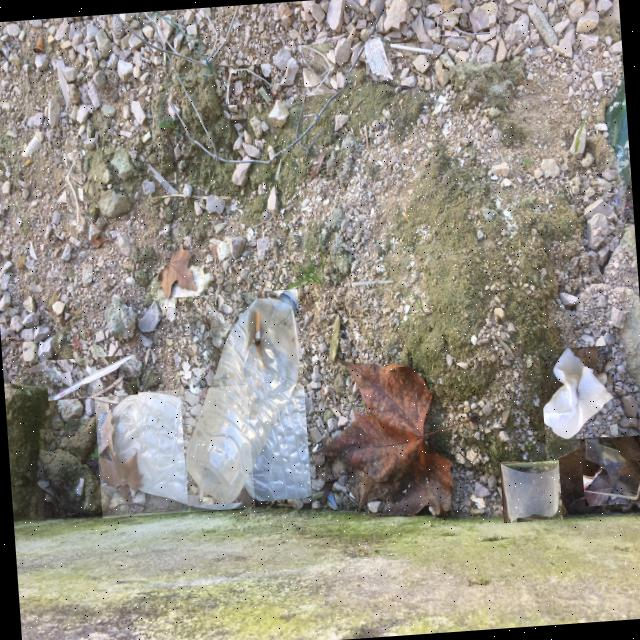Cigarette: (214, 315, 224, 347)
Clear plastic bottle: (187, 290, 300, 503), (97, 392, 253, 509)
Other plastic bottle: (584, 439, 640, 501), (501, 464, 559, 522), (226, 66, 271, 105), (301, 45, 335, 94), (66, 154, 80, 225), (444, 14, 489, 35), (387, 44, 433, 53), (436, 17, 450, 38), (307, 94, 308, 94)
Plastic straw: (48, 354, 135, 400)
Tissues: (543, 348, 614, 439)
Unlabeled litter: (365, 37, 391, 79)
